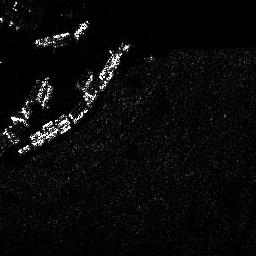ship: (34, 31, 71, 49), (34, 77, 49, 101), (74, 20, 90, 38), (10, 116, 30, 128)
